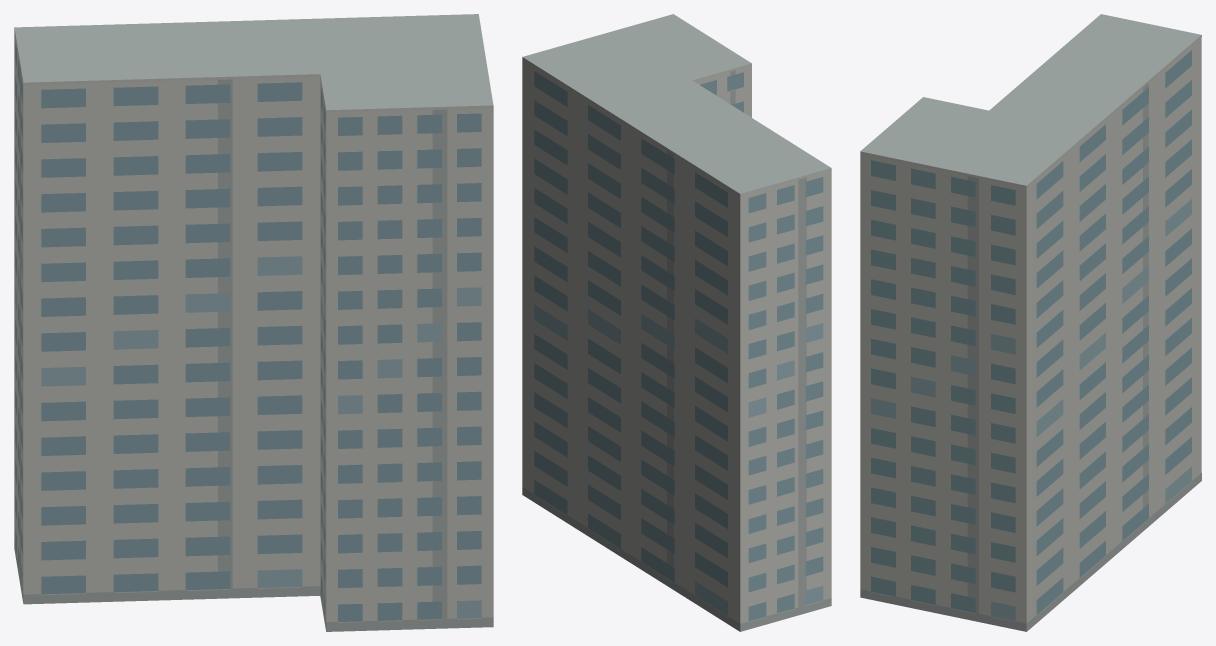
The model's file is residential-2d7c141e-119a-46fe-8d1f-c77b3f100f4b.glb.
The picture shows the model from 3 angles, left to right: view 1: azimuth 30°, elevation 25°; view 2: azimuth 150°, elevation 25°; view 3: azimuth 270°, elevation 25°; orthographic projection. The views are drawn at different scales.
Parts seen in each view (by area): view 1: residential-2d7c141e-119a-46fe-8d1f-c77b3f100f4b.tmp; view 2: residential-2d7c141e-119a-46fe-8d1f-c77b3f100f4b.tmp; view 3: residential-2d7c141e-119a-46fe-8d1f-c77b3f100f4b.tmp.
Part boxes in pixels (box(x1,y1,x2,y2)): residential-2d7c141e-119a-46fe-8d1f-c77b3f100f4b.tmp: box(14, 14, 493, 631); residential-2d7c141e-119a-46fe-8d1f-c77b3f100f4b.tmp: box(522, 14, 831, 631); residential-2d7c141e-119a-46fe-8d1f-c77b3f100f4b.tmp: box(860, 14, 1201, 631).
Size of the model in its own units: 38.84 by 47 by 32.63.
